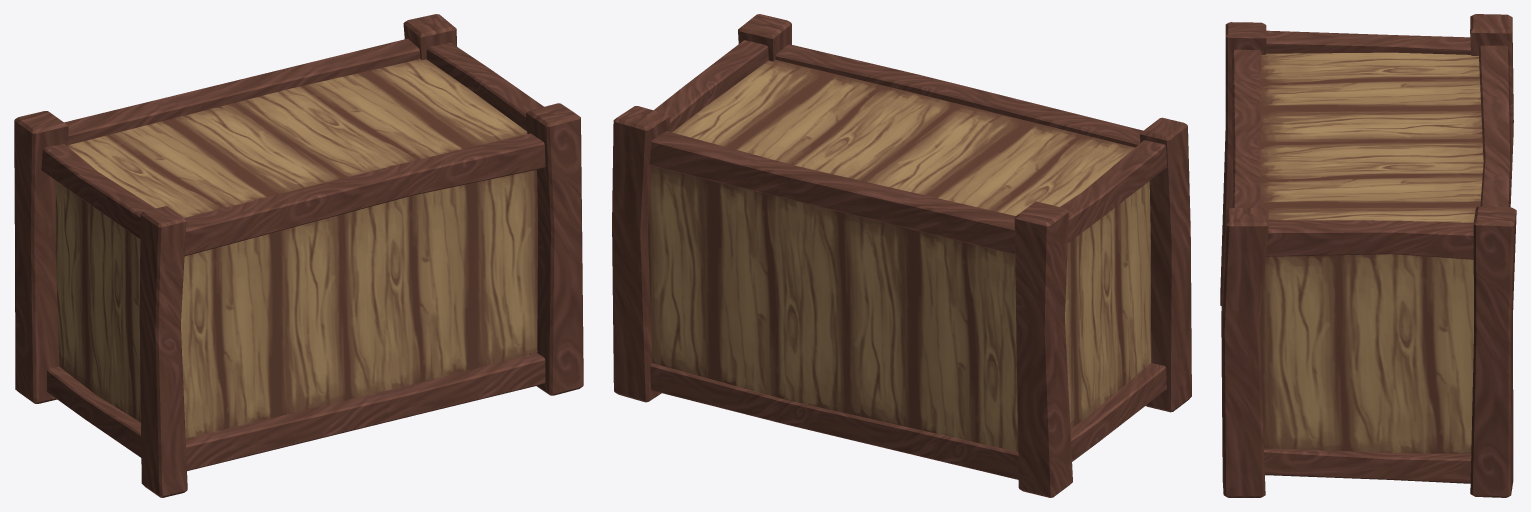
File: Crate_Large.fbx
3 renders of one model, left to right at view 1: azimuth 30°, elevation 25°; view 2: azimuth 150°, elevation 25°; view 3: azimuth 270°, elevation 25°, orthographic.
Parts seen in each view (by area): view 1: CrateLarge; view 2: CrateLarge; view 3: CrateLarge.
Part boxes in pixels (bbox=[...]): CrateLarge: bbox=[14, 14, 583, 497]; CrateLarge: bbox=[612, 14, 1191, 497]; CrateLarge: bbox=[1220, 14, 1516, 497].
Size of the model in its own units: 17.19 by 10.6 by 10.11.
